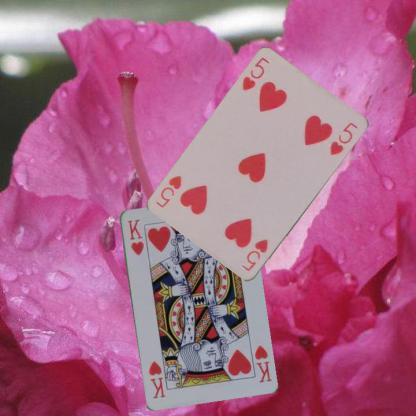5h: (237, 55, 271, 93), (239, 237, 269, 273)
Kh: (251, 342, 273, 384), (125, 216, 145, 258)
